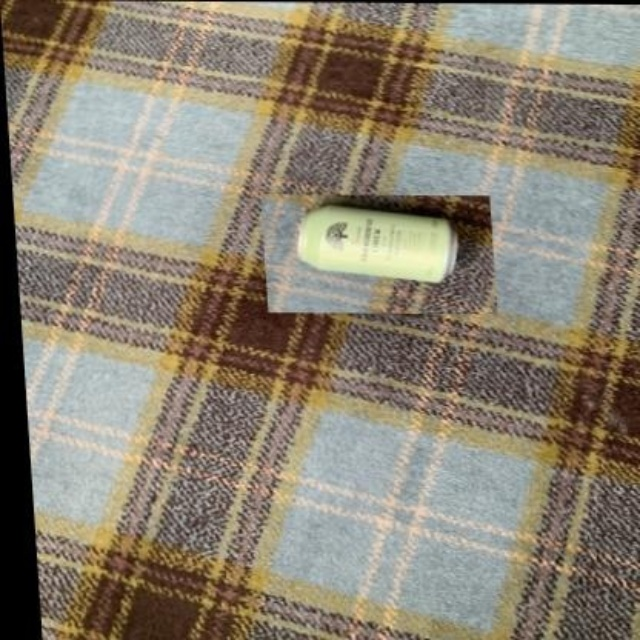trash: (297, 205, 455, 282)
